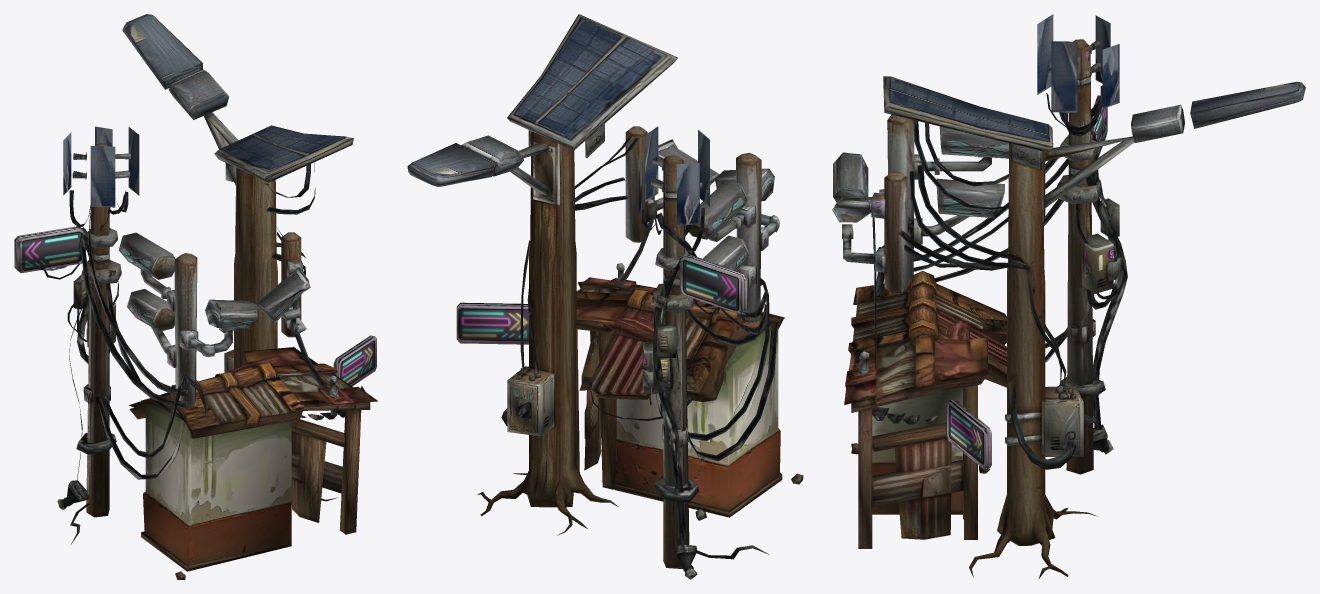
File: cctv_pole.glb
The picture shows the model from 3 angles, left to right: view 1: azimuth 30°, elevation 25°; view 2: azimuth 150°, elevation 25°; view 3: azimuth 270°, elevation 25°; orthographic projection. The views are drawn at different scales.
Visible parts, largest first — view 1: Body; view 2: Body; view 3: Body.
Part boxes in pixels (bbox=[...]): Body: bbox=[14, 14, 377, 579]; Body: bbox=[407, 14, 803, 579]; Body: bbox=[832, 14, 1305, 579].
Bounding box in the file's own units: 5.71 × 7 × 6.45.
1 material, 1 textured.
